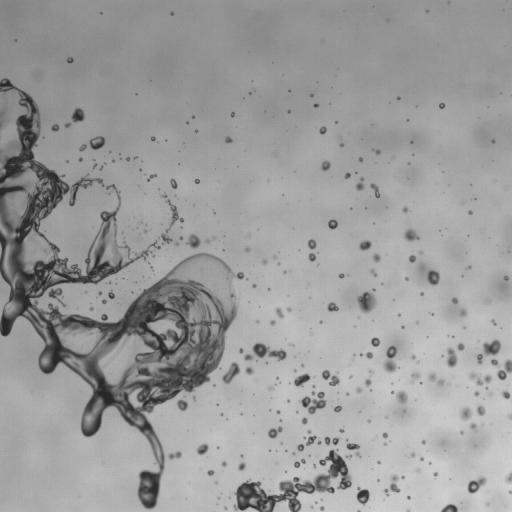droplet: (299, 391, 326, 414), (357, 291, 376, 313), (382, 346, 398, 372), (222, 362, 239, 383), (467, 476, 486, 493), (384, 475, 400, 495), (322, 370, 339, 386), (356, 487, 369, 504), (446, 348, 457, 367), (89, 136, 105, 149), (294, 373, 310, 386), (391, 390, 407, 403), (71, 108, 84, 122), (187, 234, 200, 248), (427, 270, 439, 285), (404, 229, 418, 241), (268, 426, 282, 438), (459, 407, 471, 420), (324, 436, 338, 445), (197, 443, 208, 454), (359, 240, 371, 250), (304, 435, 316, 445), (177, 399, 187, 410), (168, 451, 181, 459), (327, 302, 338, 311), (356, 178, 364, 190), (328, 219, 337, 229), (476, 405, 485, 415), (321, 161, 330, 170), (371, 337, 380, 346), (411, 372, 420, 381), (501, 390, 510, 399), (308, 239, 316, 249), (275, 308, 283, 318), (505, 472, 511, 483), (308, 253, 316, 261), (491, 359, 499, 367), (170, 179, 177, 188), (373, 253, 380, 262), (457, 342, 464, 351), (245, 367, 254, 374), (51, 124, 59, 131), (319, 126, 326, 134), (334, 405, 342, 412), (238, 462, 245, 470), (225, 136, 232, 143), (79, 144, 86, 151), (297, 444, 304, 451), (108, 290, 114, 298), (365, 378, 371, 386), (470, 423, 476, 431), (409, 255, 415, 262), (370, 269, 376, 276), (460, 309, 466, 316), (366, 352, 373, 358), (67, 57, 73, 63), (452, 297, 458, 303), (373, 149, 380, 154), (302, 417, 307, 424), (207, 470, 214, 475), (345, 172, 350, 178), (356, 387, 361, 393), (382, 432, 387, 438), (439, 103, 444, 108), (402, 207, 407, 212), (270, 320, 275, 325), (221, 461, 226, 466), (65, 123, 71, 127), (262, 259, 266, 264), (339, 274, 344, 278), (239, 348, 243, 353), (268, 386, 273, 390), (474, 391, 478, 396), (433, 472, 437, 477), (314, 103, 318, 107), (151, 136, 155, 140), (195, 179, 199, 183), (468, 210, 472, 214), (245, 247, 249, 251), (504, 276, 508, 280), (102, 299, 106, 303), (287, 307, 291, 311), (411, 355, 415, 359), (369, 370, 373, 374), (276, 410, 280, 414), (307, 429, 311, 433), (317, 440, 321, 444), (411, 453, 415, 457), (320, 506, 324, 510), (508, 414, 511, 419), (231, 112, 234, 116), (78, 158, 82, 161), (358, 158, 362, 161), (93, 164, 96, 168), (162, 194, 166, 197), (98, 291, 101, 295), (492, 320, 495, 324), (422, 440, 425, 444), (508, 490, 511, 494), (126, 157, 129, 160), (206, 239, 209, 242), (405, 277, 408, 280), (293, 369, 296, 372), (340, 429, 343, 432), (460, 431, 463, 434), (420, 457, 423, 460), (313, 464, 316, 467), (416, 468, 419, 471), (407, 496, 410, 499), (467, 266, 471, 268), (406, 509, 410, 511), (170, 12, 173, 14), (310, 94, 313, 96), (340, 143, 342, 146), (180, 236, 182, 239), (175, 242, 177, 245), (419, 251, 422, 253), (253, 284, 255, 287), (90, 307, 92, 310), (398, 313, 400, 316), (319, 321, 322, 323), (401, 326, 404, 328), (360, 353, 362, 356), (489, 393, 492, 395), (193, 397, 195, 400), (401, 476, 404, 478), (224, 507, 227, 509), (397, 97, 399, 99), (492, 140, 494, 142), (112, 159, 114, 161), (100, 167, 102, 169), (144, 230, 146, 232), (30, 236, 32, 238), (151, 267, 153, 269), (350, 375, 352, 377), (368, 420, 370, 422)
ligament: (0, 79, 244, 509), (233, 450, 351, 511), (160, 198, 183, 243), (244, 342, 286, 360), (477, 339, 500, 363), (468, 372, 491, 385), (497, 359, 511, 380), (0, 104, 9, 128), (346, 442, 360, 457), (428, 372, 444, 385), (370, 183, 379, 197), (440, 504, 457, 511), (294, 459, 305, 468), (147, 174, 156, 180)
